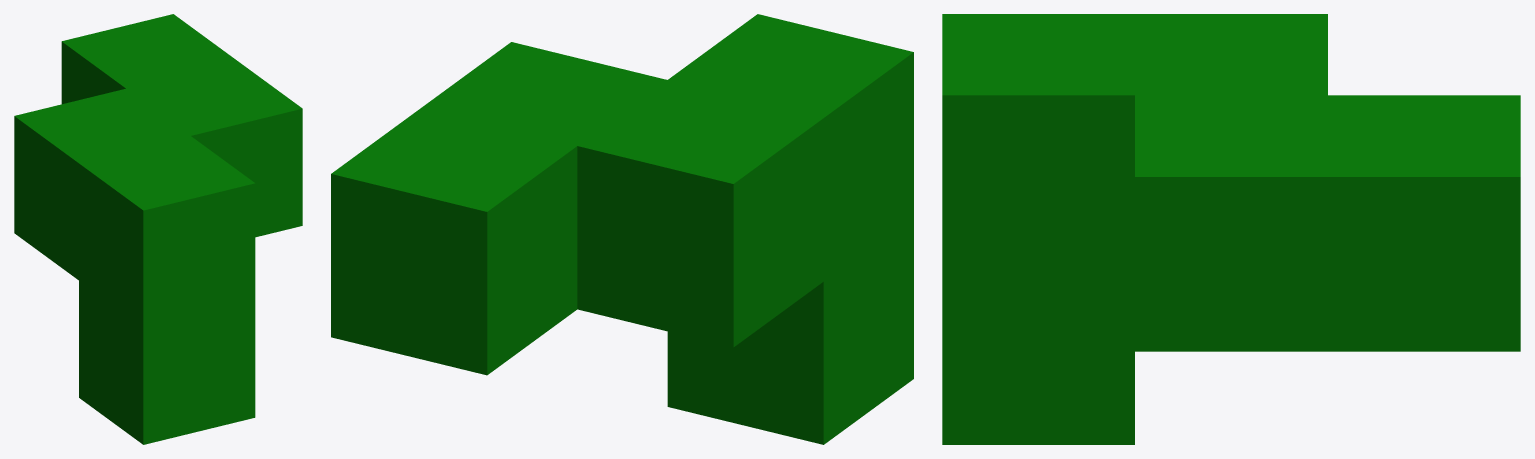
3 renders of one model, left to right at view 1: azimuth 30°, elevation 25°; view 2: azimuth 150°, elevation 25°; view 3: azimuth 270°, elevation 25°, orthographic. The views are drawn at different scales.
Parts seen in each view (by area): view 1: cube (×5); view 2: cube (×5); view 3: cube (×5).
Boxes of the visible parts, bbox=[...] form: cube (×5): bbox=[14, 14, 302, 444]; cube (×5): bbox=[331, 14, 913, 444]; cube (×5): bbox=[942, 14, 1520, 444].
Size of the model in its own units: 2 by 3 by 2.
